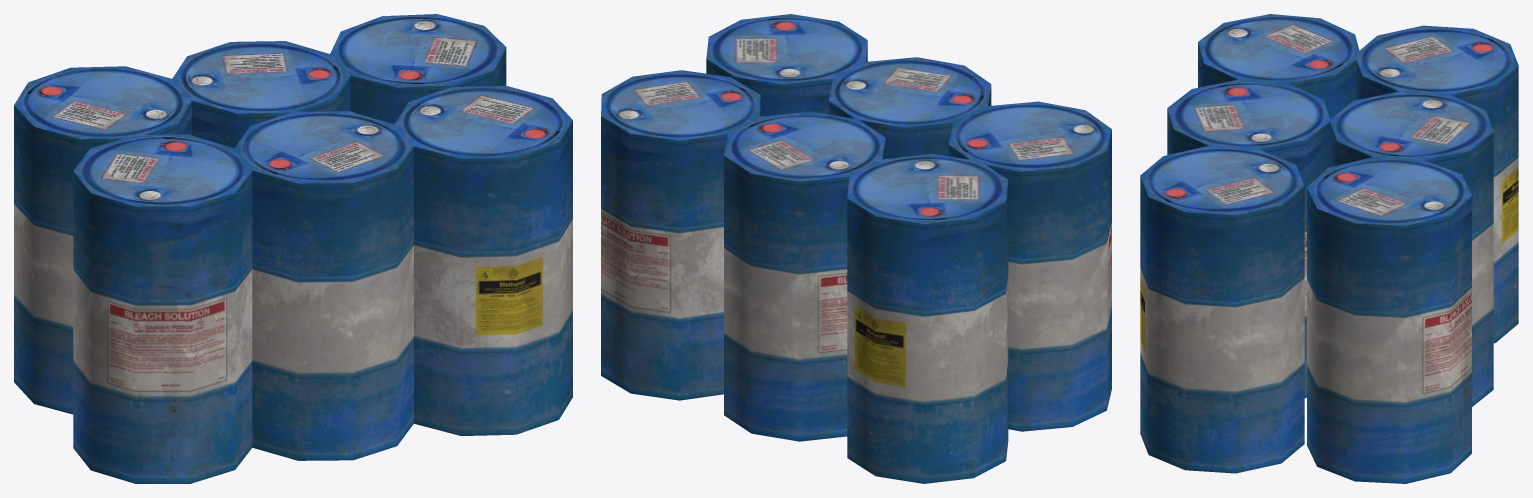
The model's file is Barrel_v3_quadro.005.glb.
3 views of the same model, side by side, from view 1: azimuth 30°, elevation 25°; view 2: azimuth 150°, elevation 25°; view 3: azimuth 270°, elevation 25° (orthographic). The views are drawn at different scales.
Visible parts, largest first — view 1: Barrel_v3_quadro.005; view 2: Barrel_v3_quadro.005; view 3: Barrel_v3_quadro.005.
Part boxes in pixels (left/top/right/bottom): Barrel_v3_quadro.005: left=14, top=14, right=572, bottom=483; Barrel_v3_quadro.005: left=601, top=14, right=1111, bottom=483; Barrel_v3_quadro.005: left=1140, top=14, right=1518, bottom=483.
Size of the model in its own units: 1.68 by 0.9547 by 1.27.
Materials: 1 (1 with a texture image).
